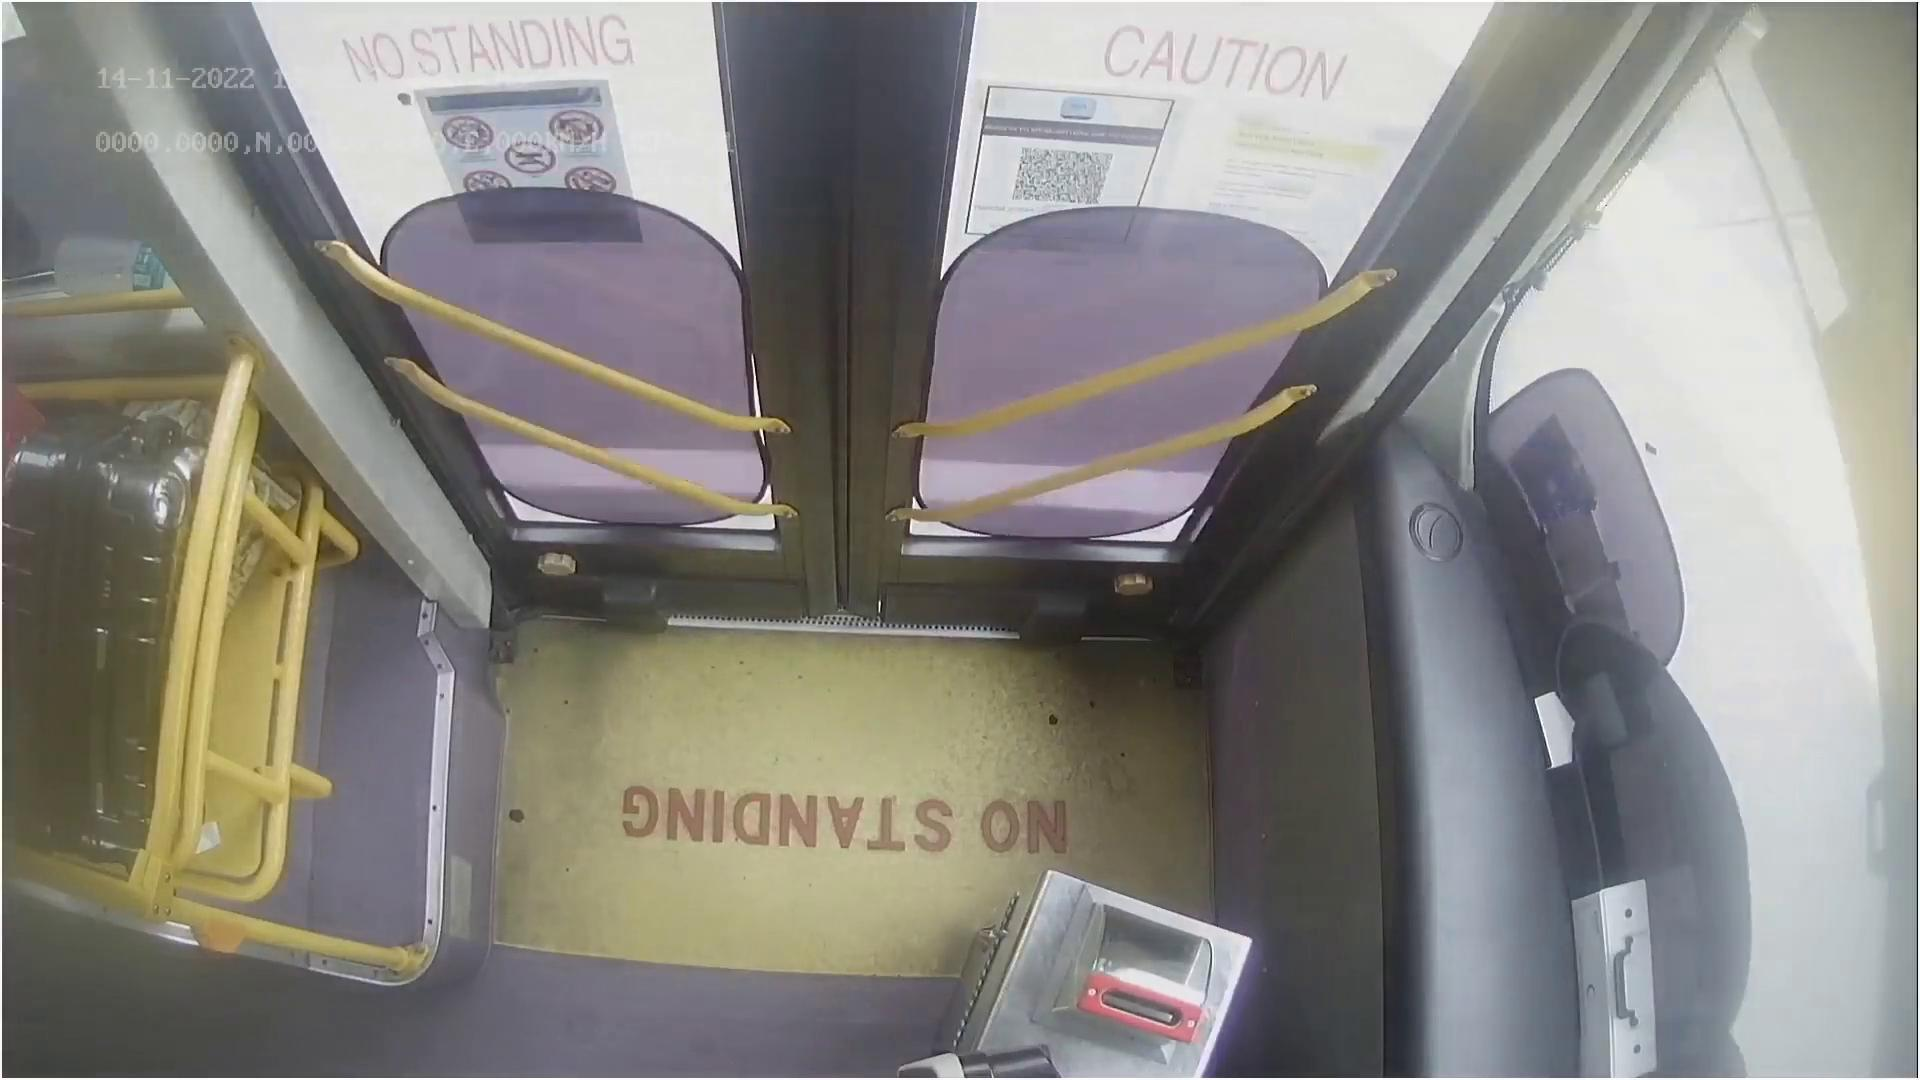close: (285, 0, 1439, 173)
